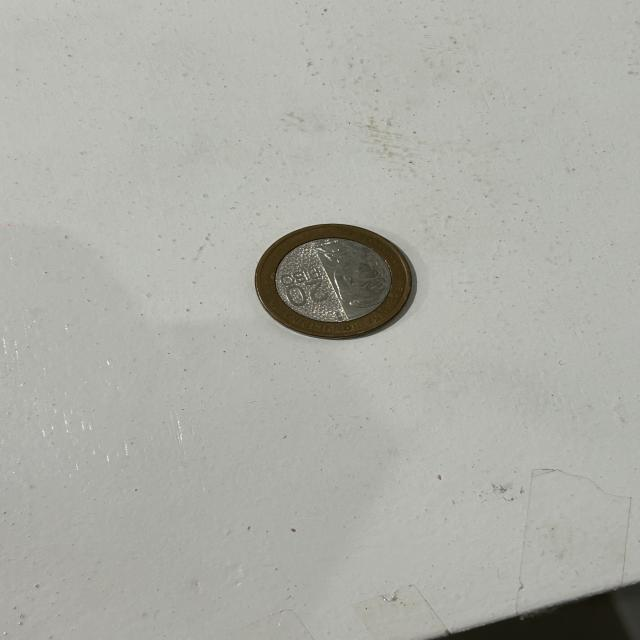20_New_Front: (277, 269, 340, 314)
